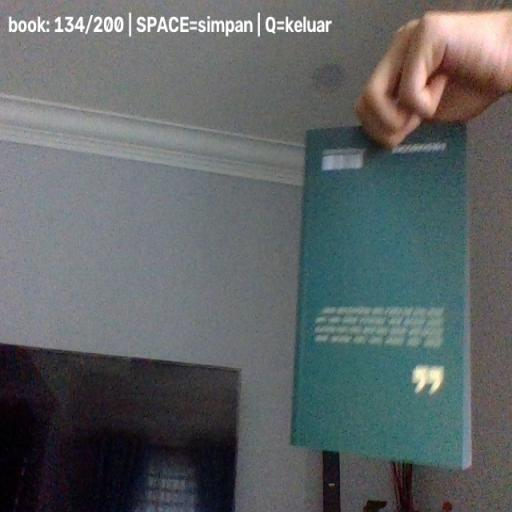Book: (290, 122, 472, 472)
